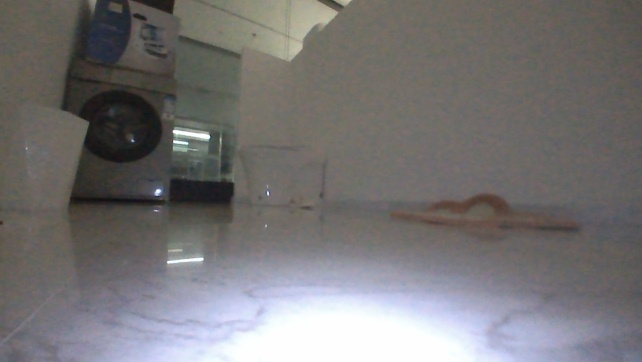blanket: (386, 205, 580, 232)
plastic_stool: (0, 102, 91, 216)
toilet: (235, 140, 297, 207)
washing_machine: (62, 57, 181, 203)
